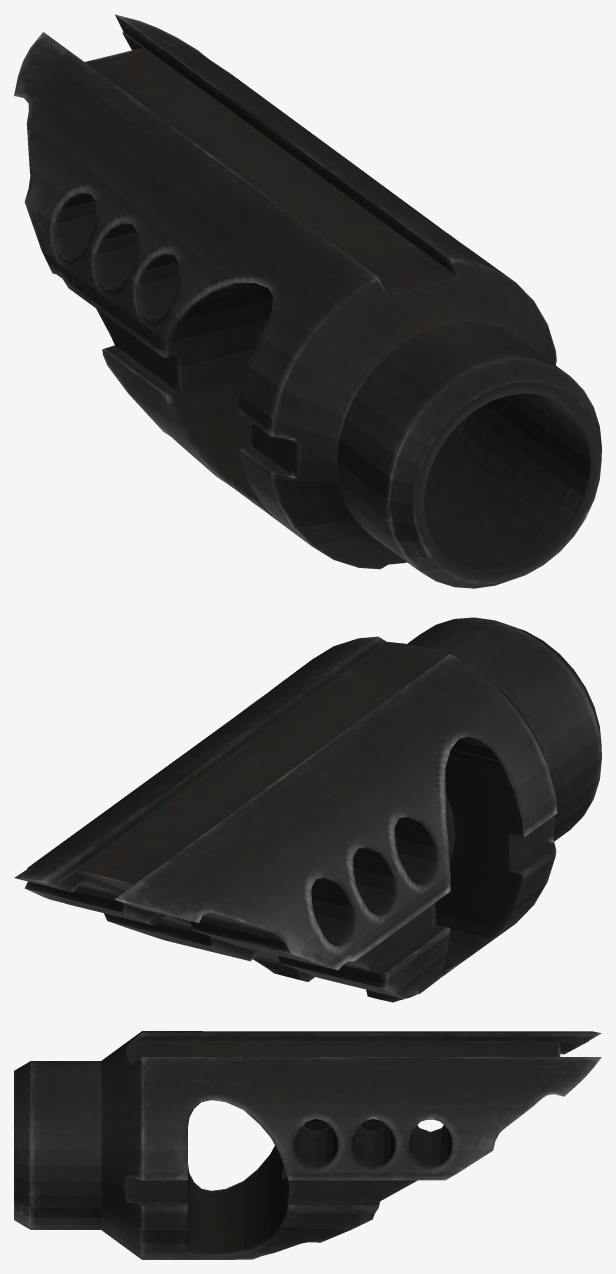
3 renders of one model, top to bottom at view 1: azimuth 30°, elevation 25°; view 2: azimuth 150°, elevation 25°; view 3: azimuth 270°, elevation 25°, orthographic. The views are drawn at different scales.
Visible parts, largest first — view 1: TW_612e0e3c290d254f5e6b291d_PZ_Import; view 2: TW_612e0e3c290d254f5e6b291d_PZ_Import; view 3: TW_612e0e3c290d254f5e6b291d_PZ_Import.
Part boxes in pixels (x1,y1,x2,y2): TW_612e0e3c290d254f5e6b291d_PZ_Import: [14, 14, 601, 588]; TW_612e0e3c290d254f5e6b291d_PZ_Import: [14, 617, 601, 1002]; TW_612e0e3c290d254f5e6b291d_PZ_Import: [14, 1031, 601, 1259].
Bounding box in the file's own units: 0.0152 × 0.0394 × 0.0148.
1 material, 1 textured.
